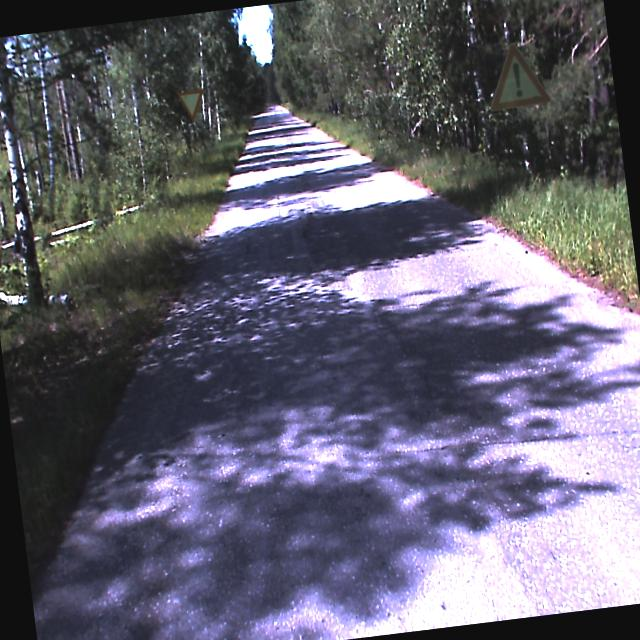road: (33, 105, 640, 640)
